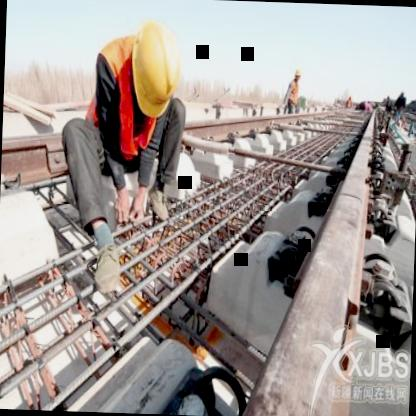helmet: (124, 16, 190, 122), (294, 66, 302, 82)
